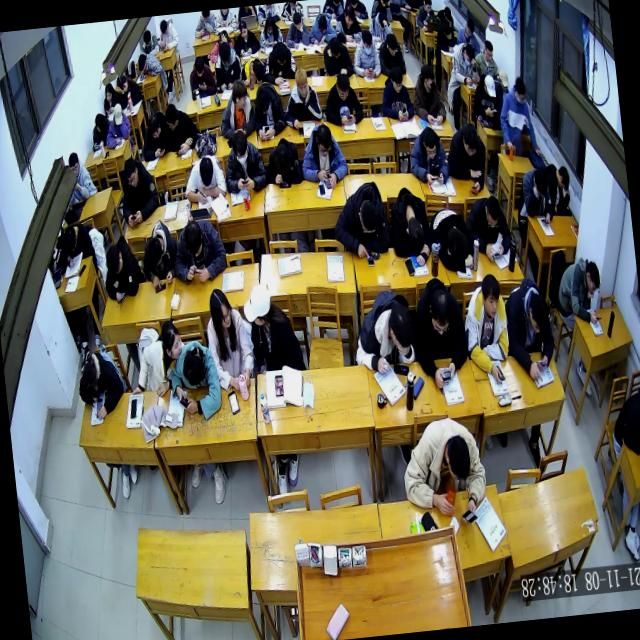bow: (502, 274, 558, 386), (166, 335, 224, 420), (330, 179, 390, 260), (126, 318, 186, 397), (386, 183, 434, 268), (169, 215, 228, 282), (74, 347, 125, 419), (463, 191, 513, 260), (220, 128, 268, 194), (427, 204, 473, 272), (100, 235, 144, 304), (138, 218, 179, 288), (180, 148, 226, 202), (262, 132, 304, 186), (162, 100, 202, 156), (250, 80, 287, 140), (520, 165, 554, 228), (261, 39, 297, 86), (138, 111, 170, 162), (321, 34, 354, 80), (450, 40, 480, 86), (306, 9, 336, 44), (117, 70, 143, 108), (88, 110, 111, 150), (238, 53, 266, 84), (136, 48, 164, 74), (434, 21, 456, 54), (137, 25, 159, 55), (434, 6, 454, 32)
down: (443, 434, 472, 481), (386, 299, 413, 347), (427, 288, 452, 334), (527, 290, 550, 334), (180, 348, 206, 386), (182, 221, 204, 258), (357, 196, 378, 232), (230, 130, 250, 164), (144, 236, 164, 269), (314, 121, 333, 155), (483, 192, 501, 226), (461, 122, 478, 156), (584, 260, 600, 295), (80, 362, 98, 393), (105, 244, 124, 273), (122, 158, 140, 188), (512, 76, 530, 106), (532, 164, 548, 196), (198, 155, 215, 185), (421, 128, 436, 160), (254, 83, 270, 112), (334, 74, 350, 102), (388, 67, 404, 94), (294, 68, 308, 98), (274, 144, 290, 170), (556, 164, 570, 192), (63, 223, 77, 250), (462, 40, 476, 66), (147, 112, 161, 137), (273, 42, 287, 66), (482, 74, 496, 98), (361, 30, 374, 55), (110, 100, 124, 123), (218, 41, 232, 64), (497, 68, 510, 92), (249, 56, 263, 78), (385, 32, 398, 54), (343, 4, 355, 26), (192, 54, 205, 74), (116, 71, 128, 92), (328, 37, 340, 58), (484, 38, 494, 61), (93, 112, 104, 132), (136, 51, 147, 71), (237, 16, 247, 37), (292, 11, 302, 31), (318, 14, 328, 34), (141, 27, 151, 46), (378, 10, 388, 29), (464, 18, 474, 36), (104, 80, 112, 102), (264, 13, 273, 32), (158, 18, 168, 35), (442, 4, 452, 21), (442, 22, 452, 38), (423, 0, 432, 14), (92, 140, 100, 150)
lookup: (481, 274, 502, 318), (68, 152, 80, 177)
sit: (398, 414, 490, 530), (408, 274, 470, 388), (459, 272, 514, 385), (240, 281, 306, 375), (348, 288, 416, 377), (202, 284, 256, 393), (495, 74, 542, 159), (554, 253, 604, 324), (297, 121, 348, 189), (444, 119, 488, 193), (117, 154, 161, 226), (406, 123, 451, 187), (280, 67, 322, 129), (216, 75, 256, 138), (410, 63, 448, 127), (322, 68, 364, 124), (376, 64, 414, 119), (56, 221, 96, 268), (211, 40, 244, 92), (350, 27, 381, 80), (66, 146, 96, 198), (545, 162, 573, 216), (186, 54, 218, 101), (470, 72, 500, 121), (102, 100, 132, 146), (376, 30, 406, 76), (230, 14, 261, 54), (332, 3, 362, 43), (473, 36, 499, 78), (282, 10, 310, 48), (454, 16, 480, 54), (257, 14, 283, 48), (367, 10, 393, 44), (156, 16, 179, 52), (413, 0, 436, 32), (100, 80, 121, 113)
